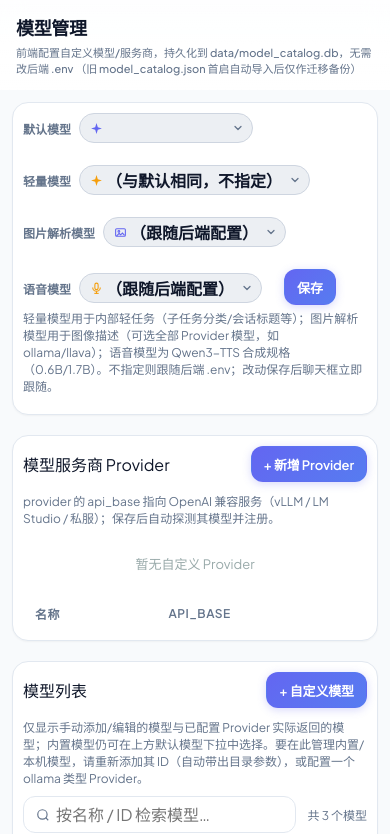
Test case: ModelManagerView 模型列表 › 重新添加已有模型 ID 时自动带出目录参数
The width and height of the screenshot is (390, 834).
Click the button "+ 自定义模型": (317, 690) top-left (266, 672), bottom-right (367, 708)
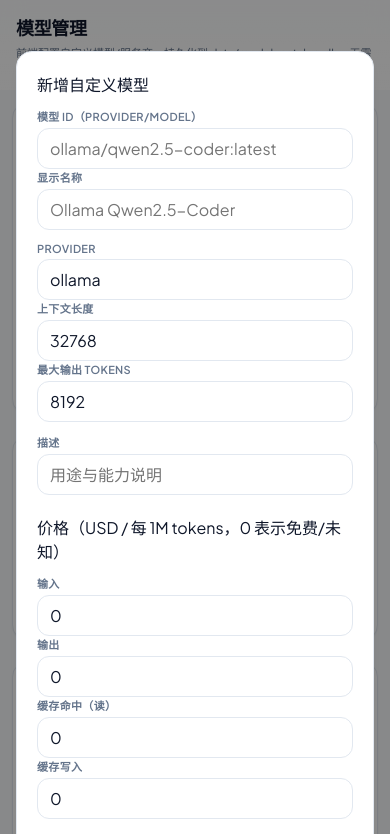
In the field with placeholder "ollama/qwen2.5-coder:latest": (195, 148) top-left (37, 128), bottom-right (353, 169), type "builtin/x"
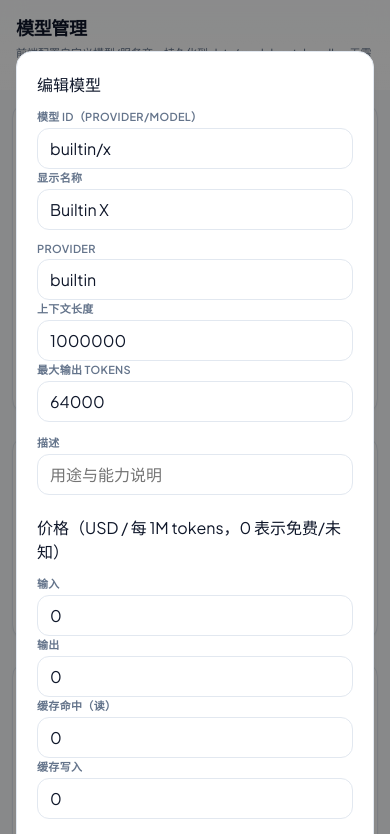
Result: the field with placeholder "Ollama Qwen2.5-Coder" holds "Builtin X" at top-left (37, 189), bottom-right (353, 230)
Result: the number field labelled "上下文长度" holds "1000000" at top-left (37, 320), bottom-right (353, 361)
Result: the number field labelled "最大输出 tokens" holds "64000" at top-left (37, 381), bottom-right (353, 422)
